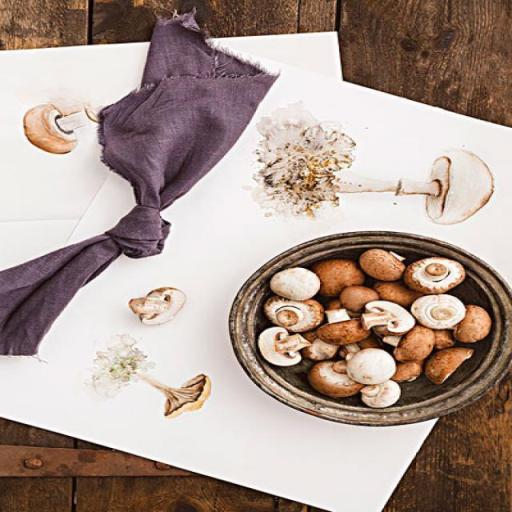Button Mushroom: (265, 251, 487, 402), (334, 149, 498, 223), (129, 362, 214, 419), (26, 99, 102, 154), (132, 288, 188, 326)
